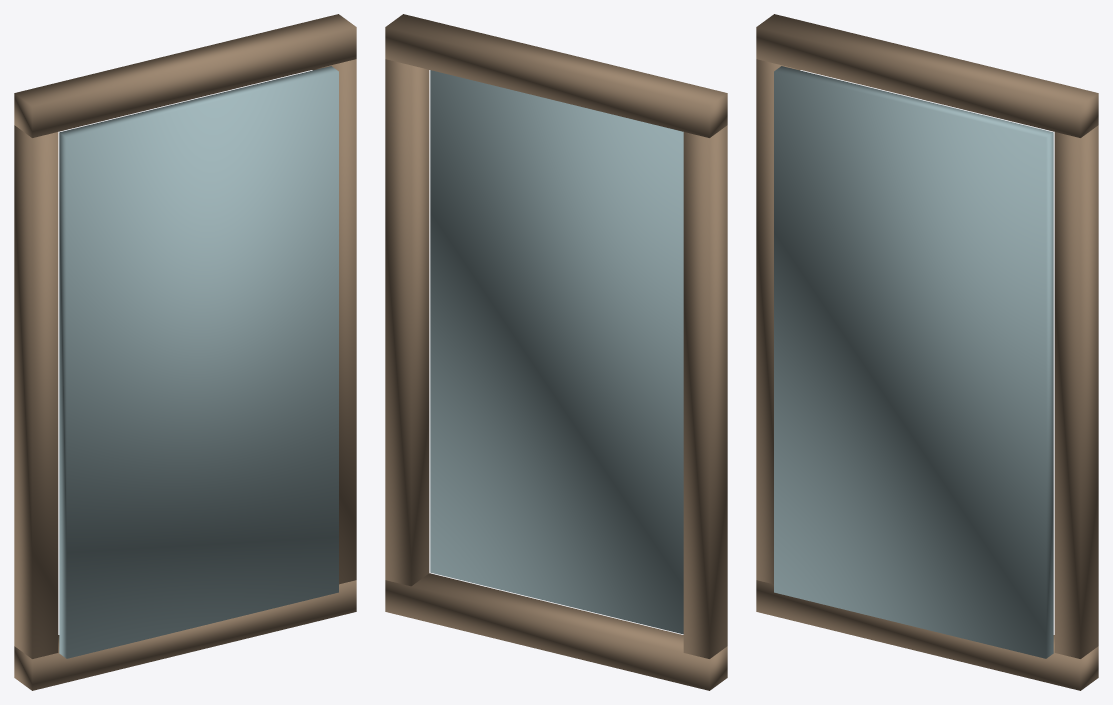
The model's file is motel_wall_mirror__tall.glb.
3 views of the same model, side by side, from view 1: azimuth 30°, elevation 25°; view 2: azimuth 150°, elevation 25°; view 3: azimuth 330°, elevation 25° (orthographic).
Visible parts, largest first — view 1: world; view 2: world; view 3: world.
Part boxes in pixels (x1=…): world: x1=14, y1=14, x2=356, y2=690; world: x1=385, y1=14, x2=727, y2=690; world: x1=756, y1=14, x2=1098, y2=690.
Size of the model in its own units: 0.62 by 1.07 by 0.0875.
